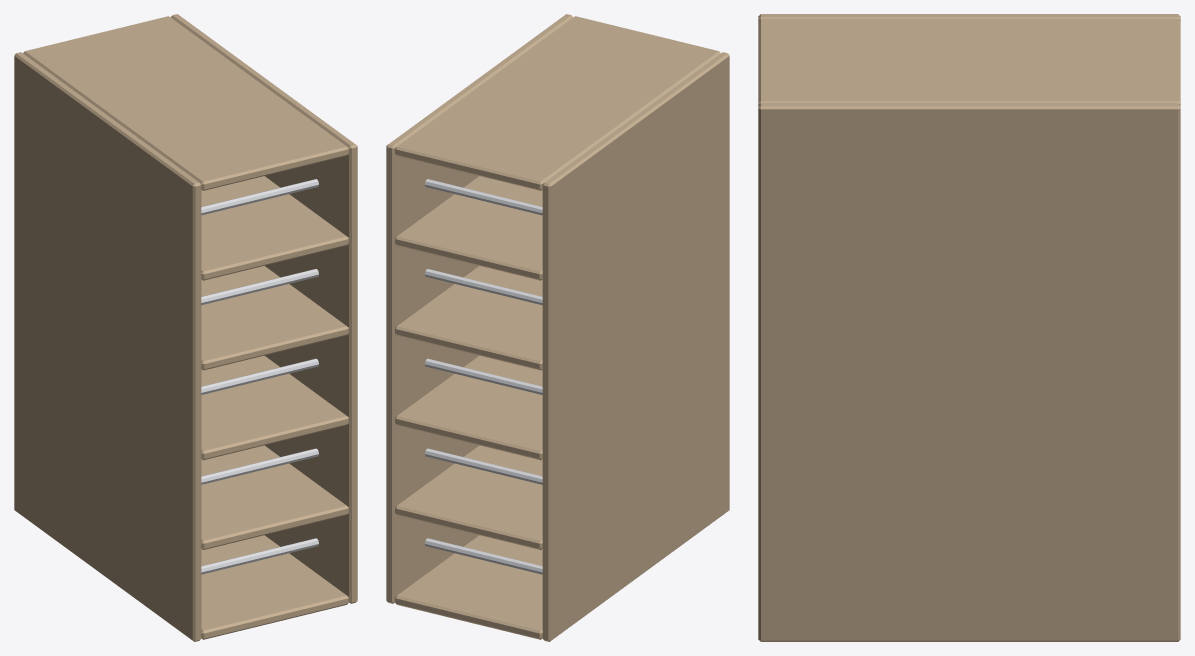
Rendered from fitted-kitchen-and-bathroom-builder-wine-rack-insert-8a8522f0__17861.glb.
3 renders of one model, left to right at view 1: azimuth 30°, elevation 25°; view 2: azimuth 150°, elevation 25°; view 3: azimuth 270°, elevation 25°, orthographic. The views are drawn at different scales.
Visible parts, largest first — view 1: wine-rack-insert; view 2: wine-rack-insert; view 3: wine-rack-insert.
Part boxes in pixels (<box>): wine-rack-insert: <box>14,14,357,641</box>; wine-rack-insert: <box>386,14,729,641</box>; wine-rack-insert: <box>758,14,1180,641</box>.
Bounding box in the file's own units: 0.264 × 0.7 × 0.5.
